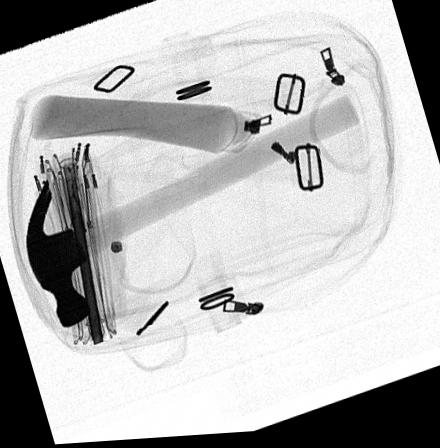Hammer: (25, 97, 359, 329)
